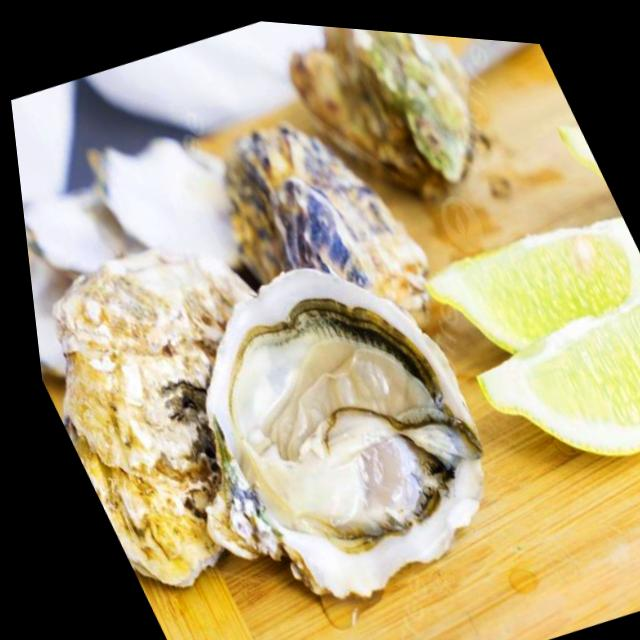Oyster-Indeterminate: (43, 234, 268, 622), (214, 106, 450, 340), (283, 25, 450, 202), (77, 124, 252, 284), (343, 29, 490, 206), (21, 175, 145, 286), (28, 248, 80, 400)
Oyster-Open: (189, 243, 504, 619)
